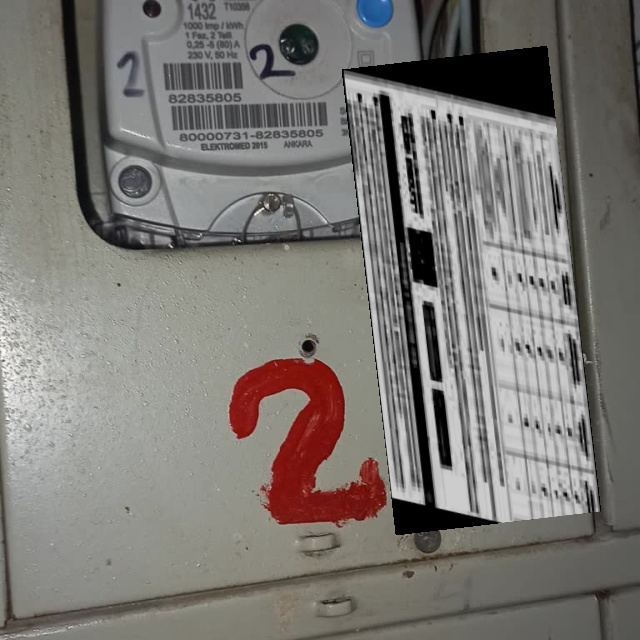electricity-bill: (342, 46, 601, 534)
